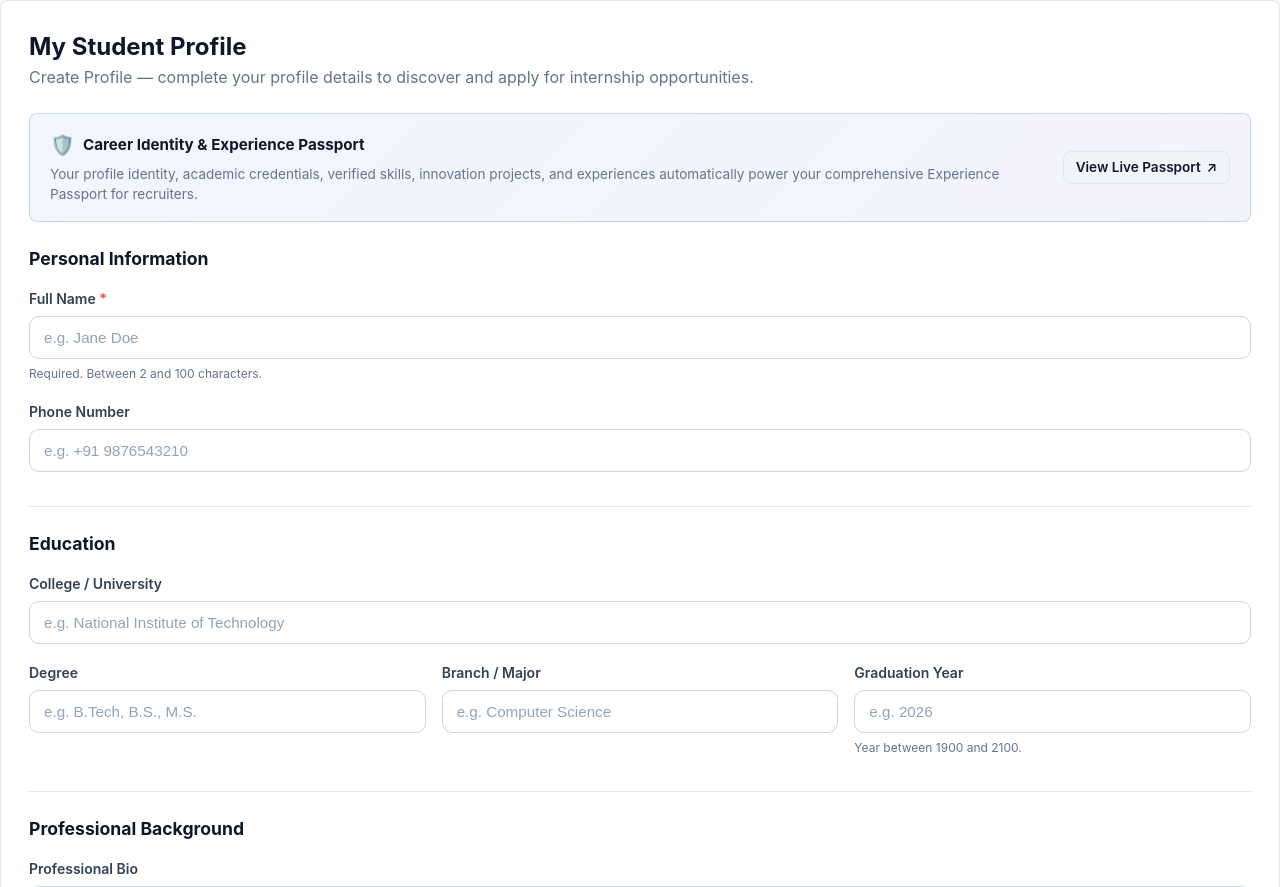
Test: StudentProfilePage — Comprehensive F-03 Scenarios › Scenario 5: Successful creation success feedback — displays success alert upon creation
The width and height of the screenshot is (1280, 887).
Type "Jane Doe" into the field labelled "Full Name *" at (640, 338), box [29,316,1251,359]
(page scrolled)
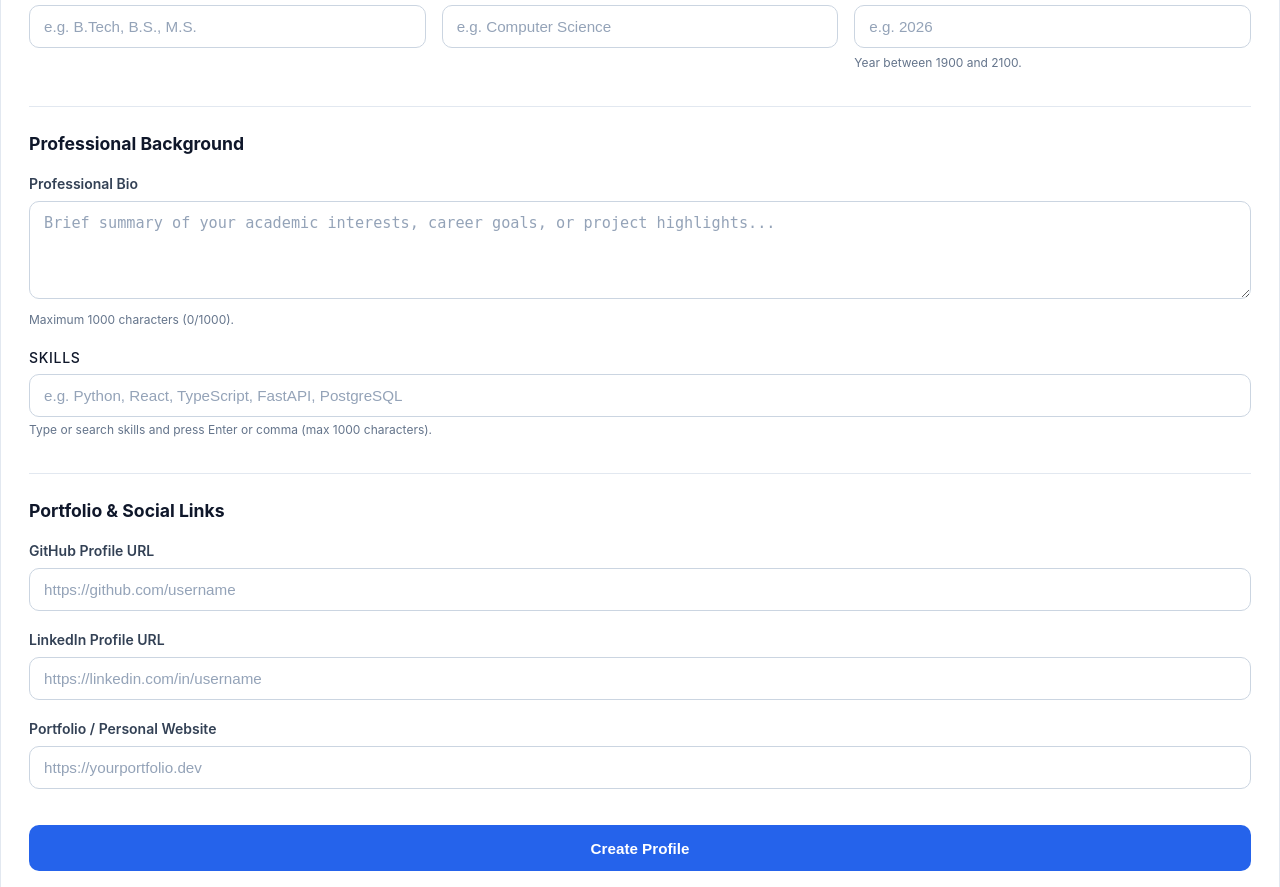
Click the button "Create Profile" at (640, 848), box [29,825,1251,871]
(page scrolled)
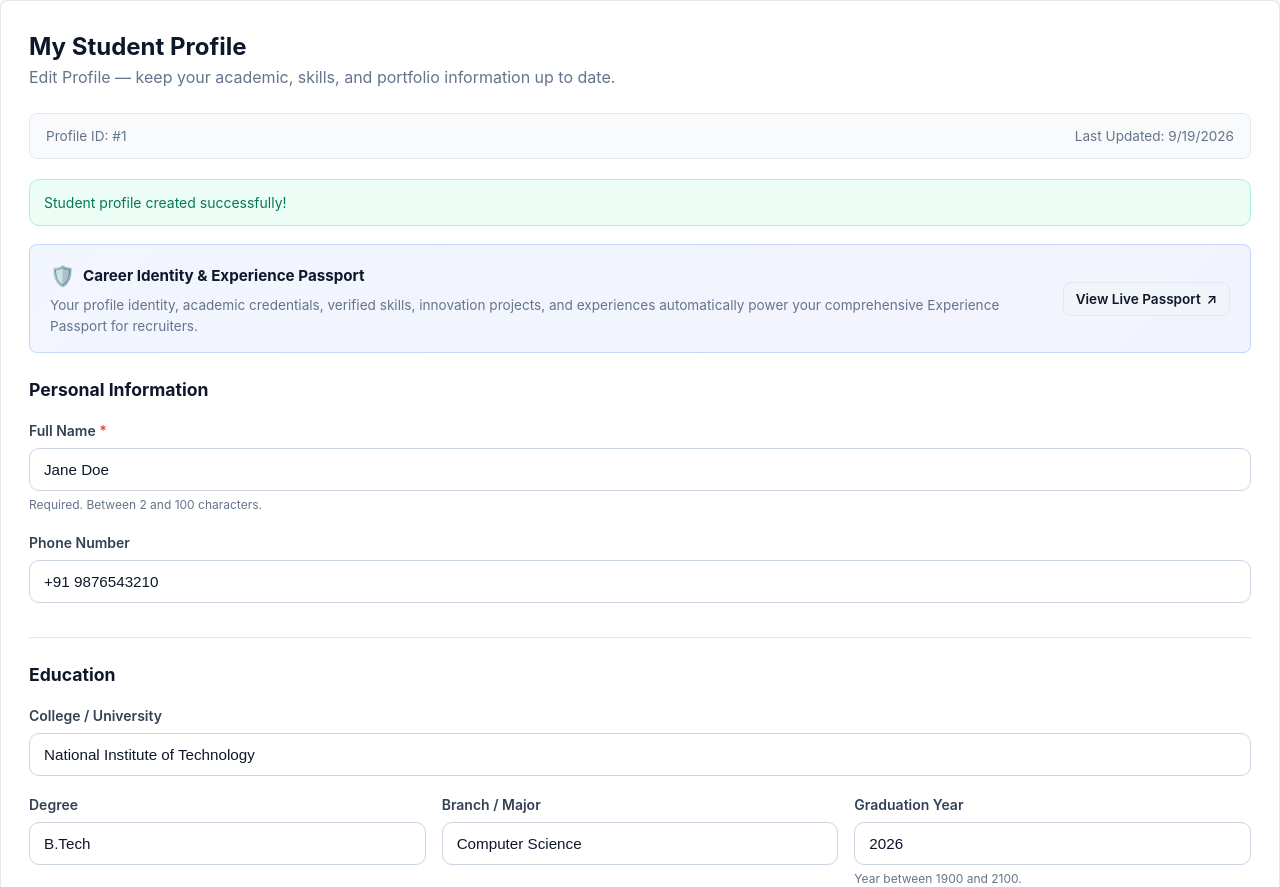
Check: the message reads "Student profile created successfully!", box [44,194,287,211]
